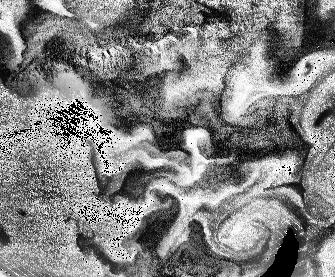CE: (208, 192, 278, 264)
